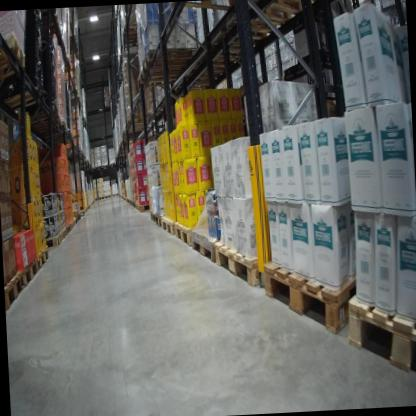pallet: (260, 244, 372, 342), (344, 290, 416, 380), (222, 0, 320, 34), (214, 235, 267, 290), (191, 219, 243, 262), (135, 54, 197, 89), (138, 43, 193, 75), (0, 35, 28, 87), (168, 0, 248, 17), (4, 79, 47, 110), (175, 214, 209, 248), (16, 253, 44, 293), (4, 268, 28, 314), (26, 104, 59, 130), (162, 210, 180, 237), (37, 242, 51, 275), (121, 21, 141, 38), (46, 9, 63, 29), (44, 233, 64, 248), (153, 212, 164, 230), (138, 200, 153, 212), (71, 206, 80, 218), (64, 221, 71, 235), (58, 227, 66, 238), (148, 211, 155, 223), (101, 161, 109, 170), (71, 218, 78, 228), (97, 194, 105, 201), (68, 220, 73, 230), (104, 192, 111, 199), (94, 164, 102, 170), (89, 165, 95, 171), (111, 192, 118, 197), (110, 160, 117, 165)
